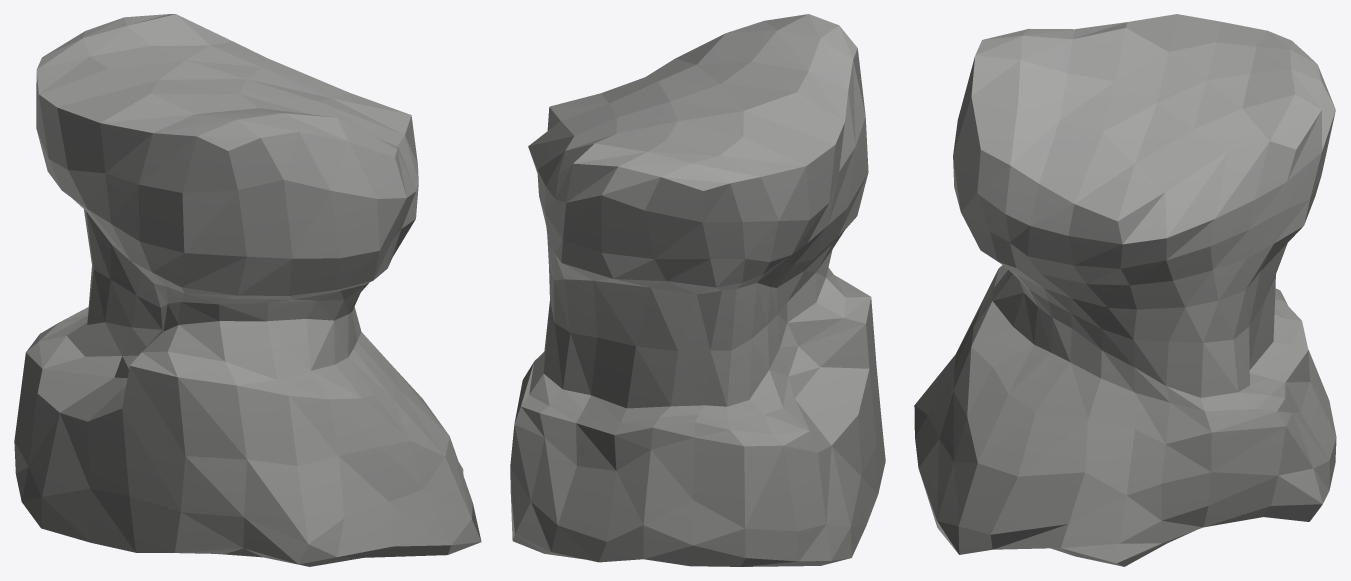
The model's file is Cavern_Wall_Corner_Med-02.fbx.
3 renders of one model, left to right at view 1: azimuth 30°, elevation 25°; view 2: azimuth 150°, elevation 25°; view 3: azimuth 270°, elevation 25°, orthographic. The views are drawn at different scales.
Visible parts, largest first — view 1: Cavern_Wall_Corner_Med-02; view 2: Cavern_Wall_Corner_Med-02; view 3: Cavern_Wall_Corner_Med-02.
Part boxes in pixels (x1,y1,x2,y2): Cavern_Wall_Corner_Med-02: (14,14,481,566); Cavern_Wall_Corner_Med-02: (510,14,885,566); Cavern_Wall_Corner_Med-02: (914,14,1336,566).
Size of the model in its own units: 1184 by 1383 by 1252.
Materials: 1 (1 with a texture image).
